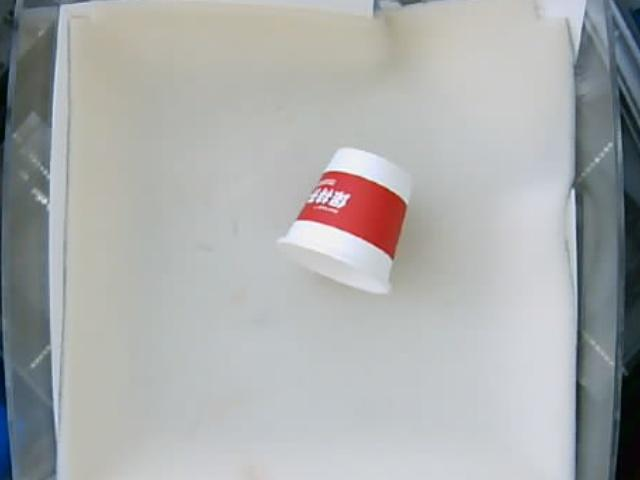Cup: (280, 146, 410, 295)
